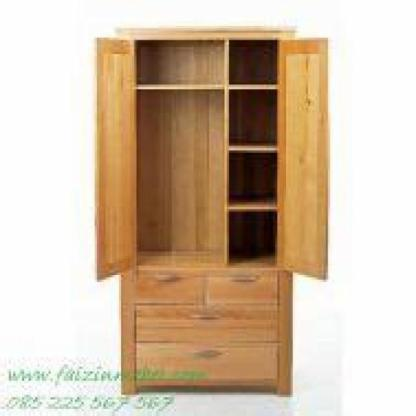Closet: (88, 20, 342, 400)
